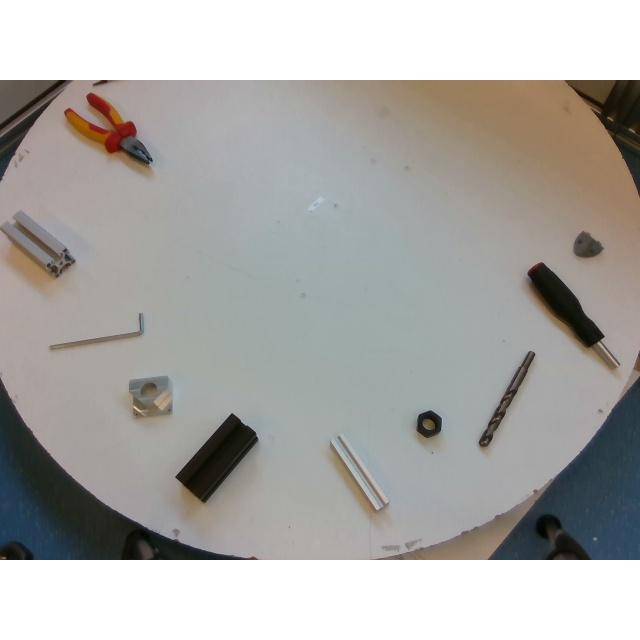Drill: (478, 350, 534, 446)
F20_20_G: (329, 434, 386, 510)
M20: (416, 410, 442, 438)
S40_40_B: (176, 414, 256, 502)
S40_40_G: (0, 210, 74, 276)
